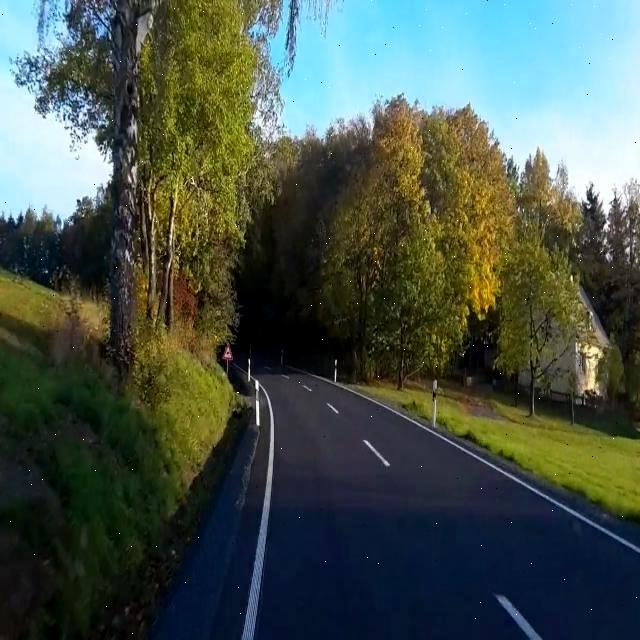lane: (344, 387, 639, 554), (242, 380, 273, 639), (495, 595, 544, 639), (363, 440, 390, 467)
road: (255, 363, 640, 639)
